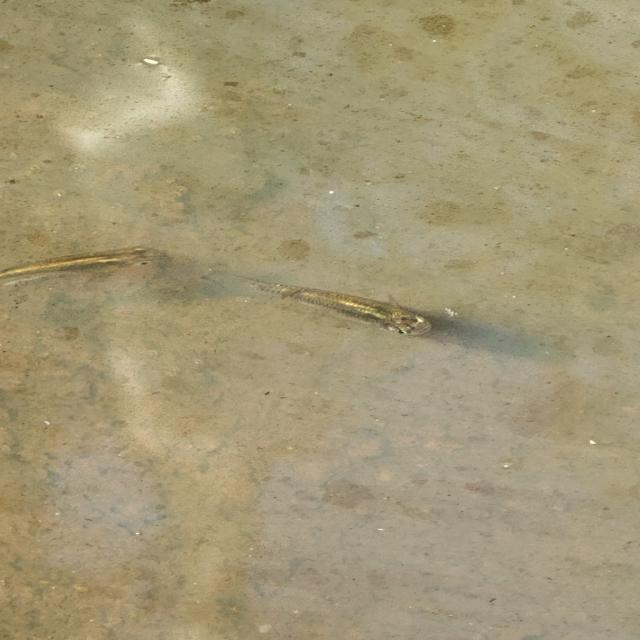Sivrisinek Baligi: (218, 259, 439, 349), (0, 242, 159, 274)
